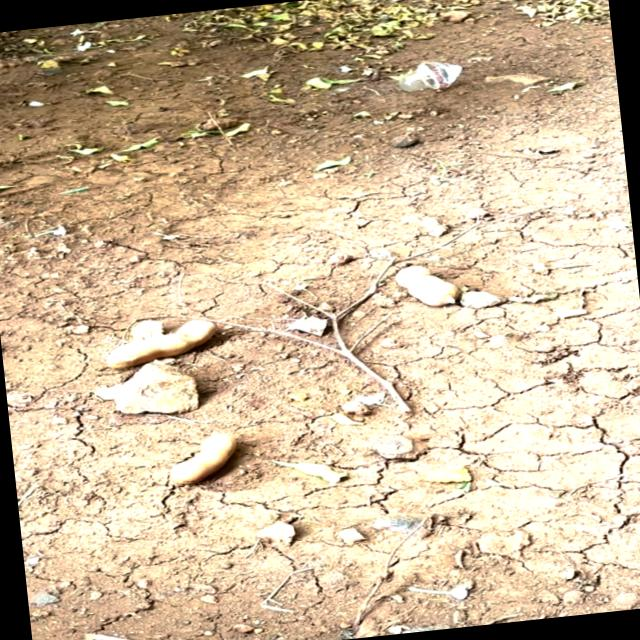tamarind: (97, 313, 223, 375), (148, 430, 242, 489), (392, 255, 468, 318)
